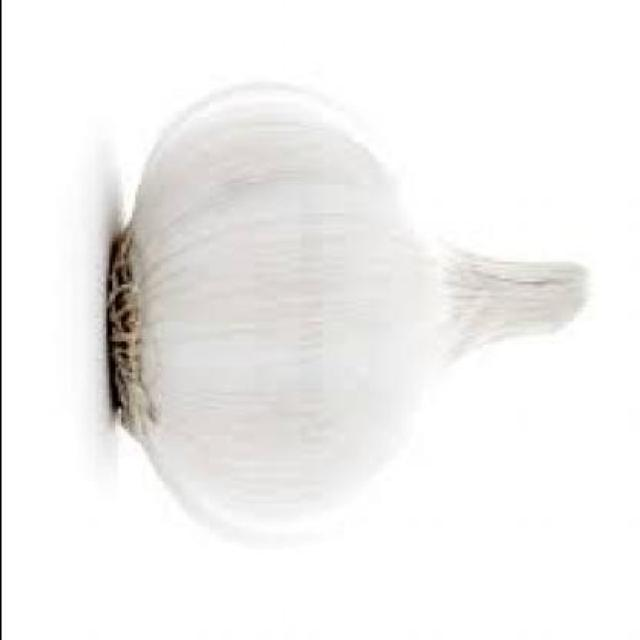BIODEGRADABLE: (109, 89, 592, 532)
